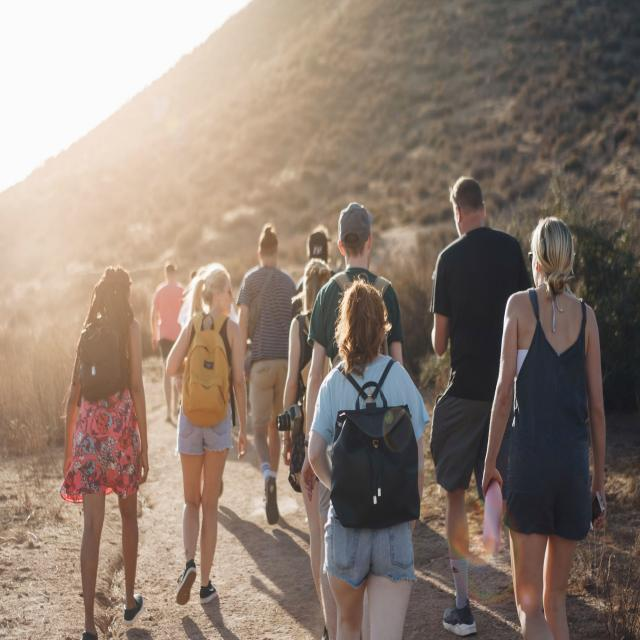adult: (481, 216, 610, 640), (309, 283, 430, 640), (434, 172, 526, 627), (66, 268, 146, 640), (165, 266, 248, 607), (303, 199, 401, 442), (236, 226, 307, 521), (151, 262, 187, 425)
